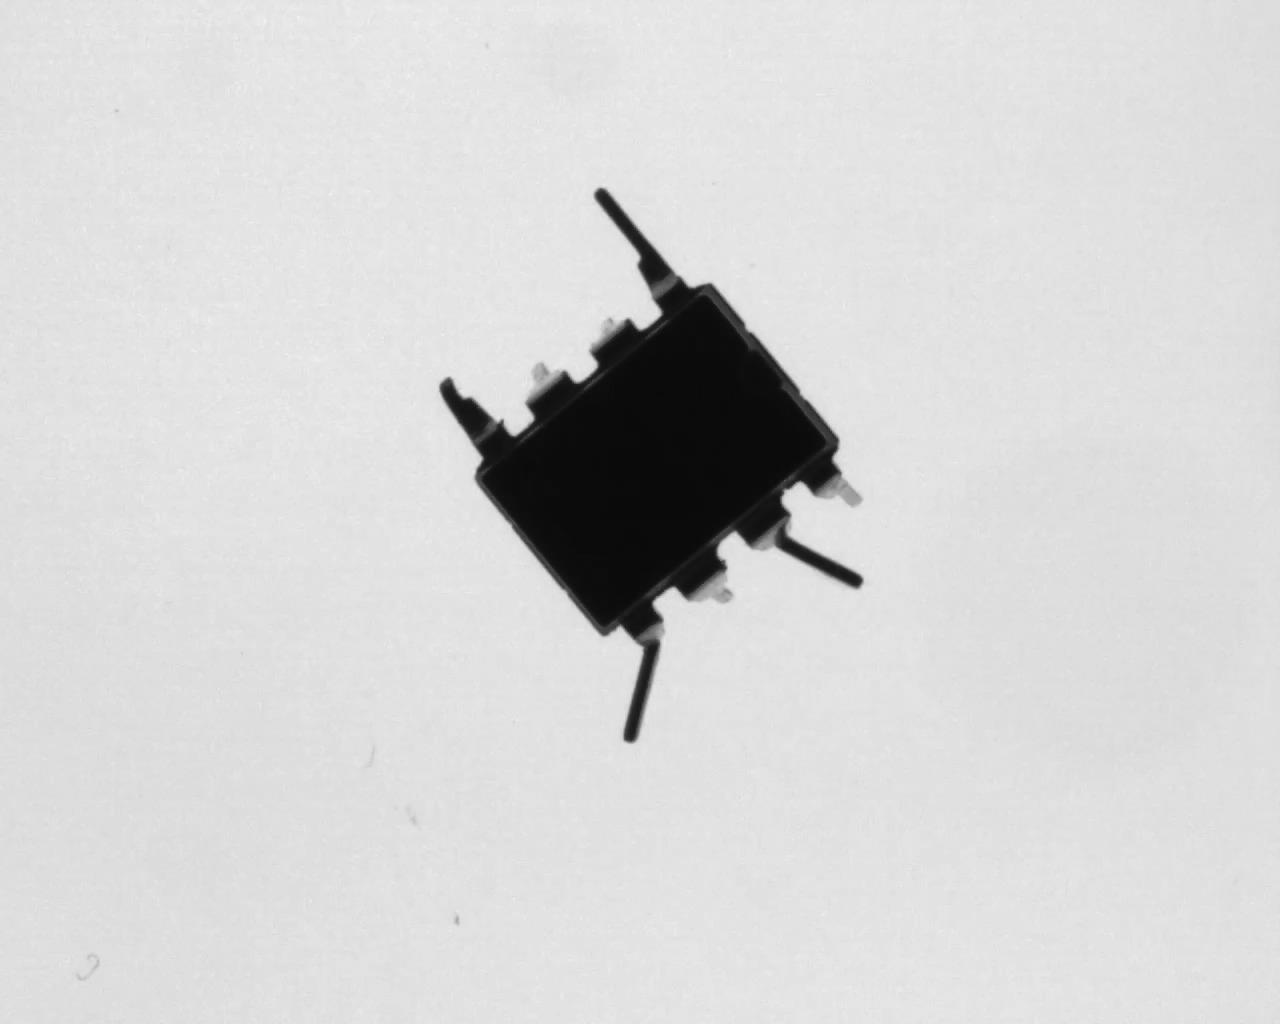Leg: (594, 187, 691, 306), (741, 509, 866, 588), (438, 375, 513, 461), (622, 601, 664, 742), (802, 459, 865, 507), (676, 553, 734, 604), (523, 360, 571, 420), (588, 311, 638, 367)
